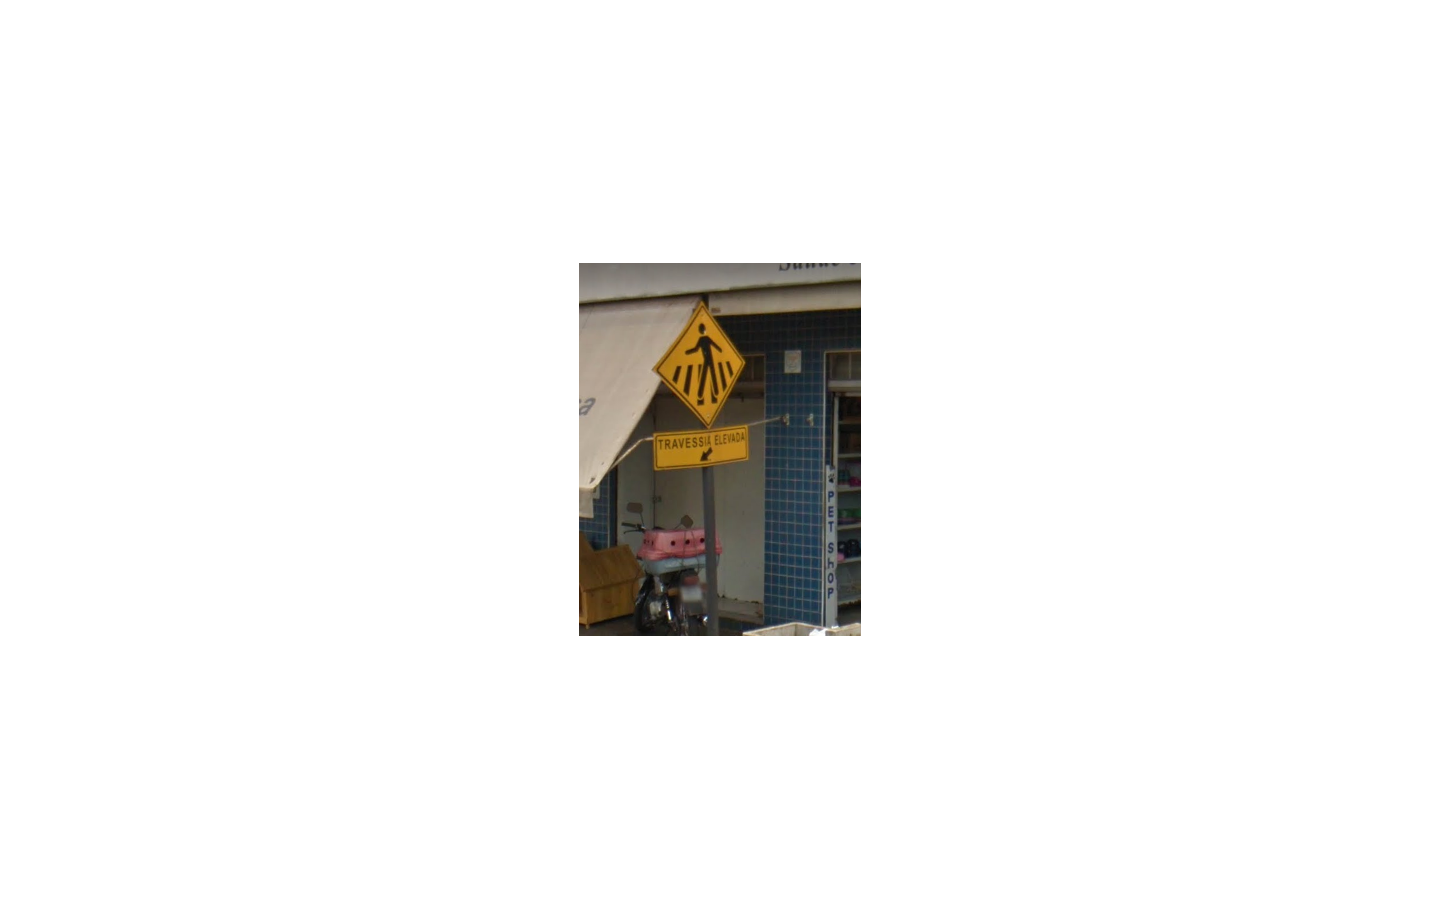telev: (653, 302, 749, 469)
